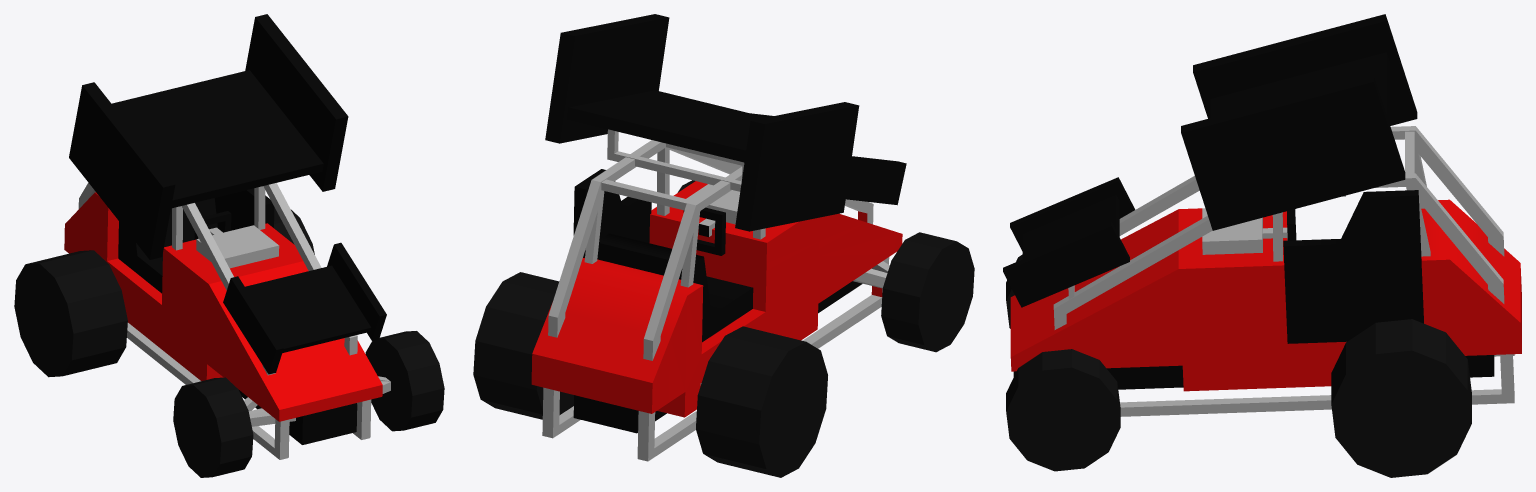
The model's file is sprint_car.gltf.
3 renders of one model, left to right at view 1: azimuth 30°, elevation 25°; view 2: azimuth 150°, elevation 25°; view 3: azimuth 270°, elevation 25°, orthographic. The views are drawn at different scales.
Parts seen in each view (by area): view 1: SprintCar, Wheel_RR.001, Wheel_FR.001, Wheel_FL.001; view 2: SprintCar, Wheel_RR.001, Wheel_FR.001, Wheel_RL.001; view 3: SprintCar, Wheel_RL.001, Wheel_FL.001.
Part boxes in pixels (x1=…): SprintCar: x1=64, y1=14, x2=390, y2=459; Wheel_RR.001: x1=14, y1=250, x2=127, y2=377; Wheel_FR.001: x1=173, y1=377, x2=253, y2=477; Wheel_FL.001: x1=365, y1=331, x2=444, y2=431; SprintCar: x1=531, y1=14, x2=906, y2=461; Wheel_RR.001: x1=696, y1=326, x2=827, y2=477; Wheel_FR.001: x1=881, y1=232, x2=974, y2=352; Wheel_RL.001: x1=473, y1=272, x2=573, y2=419; SprintCar: x1=1003, y1=14, x2=1521, y2=416; Wheel_RL.001: x1=1331, y1=319, x2=1471, y2=477; Wheel_FL.001: x1=1006, y1=349, x2=1120, y2=471.
Size of the model in its own units: 3.96 by 4.88 by 6.09.
